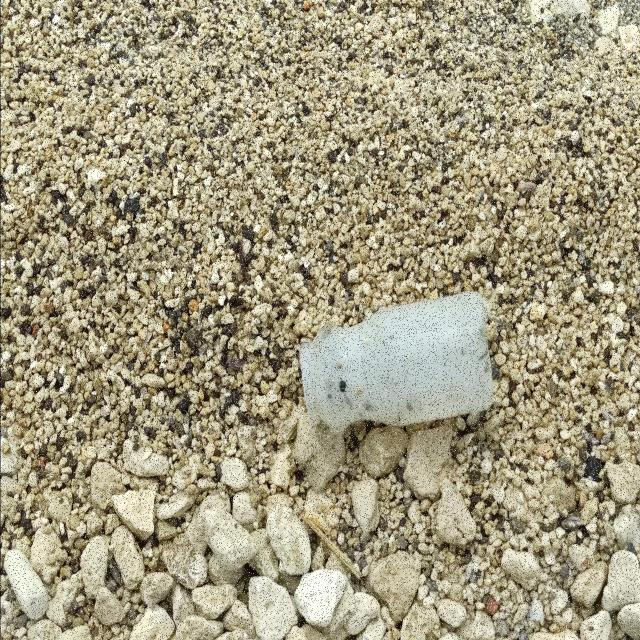plastic_waste: (301, 290, 495, 434)
